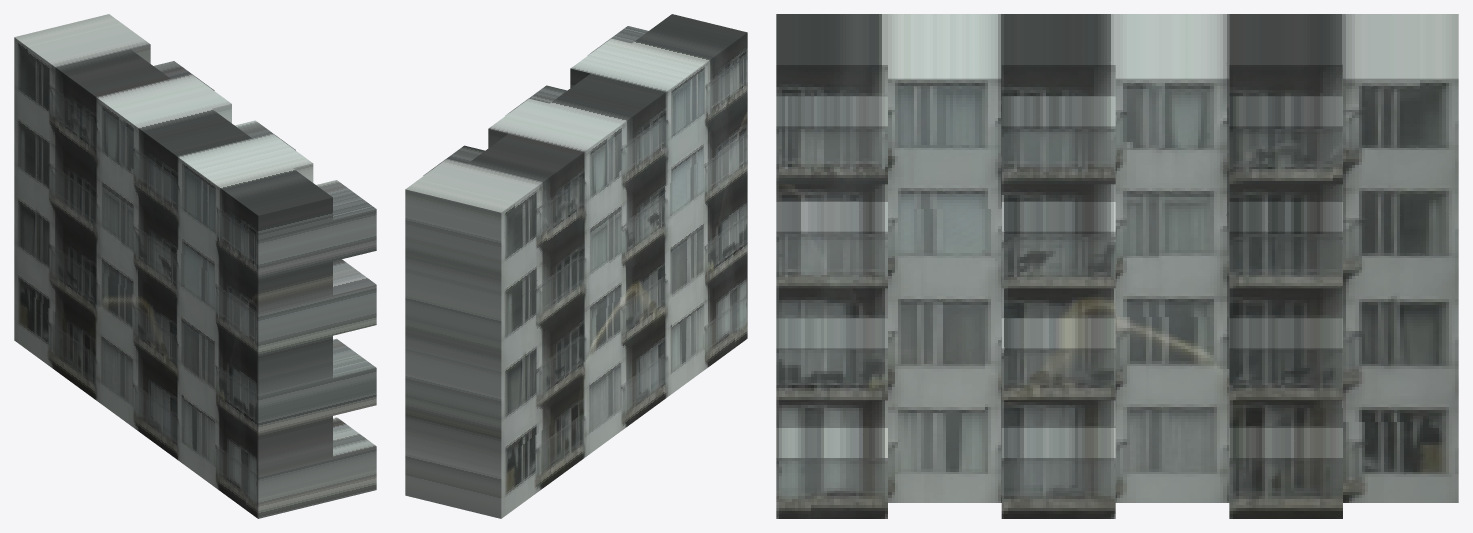
File: balconey.glb
The picture shows the model from 3 angles, left to right: view 1: azimuth 30°, elevation 25°; view 2: azimuth 150°, elevation 25°; view 3: azimuth 270°, elevation 25°; orthographic projection. The views are drawn at different scales.
Parts seen in each view (by area): view 1: Cube; view 2: Cube; view 3: Cube.
Boxes of the visible parts, x1,y1,x2,y2 form: Cube: (14, 14, 376, 518); Cube: (405, 14, 747, 518); Cube: (776, 14, 1458, 518).
Bounding box in the file's own units: 3.17 × 7.75 × 11.3.
1 material, 1 textured.
